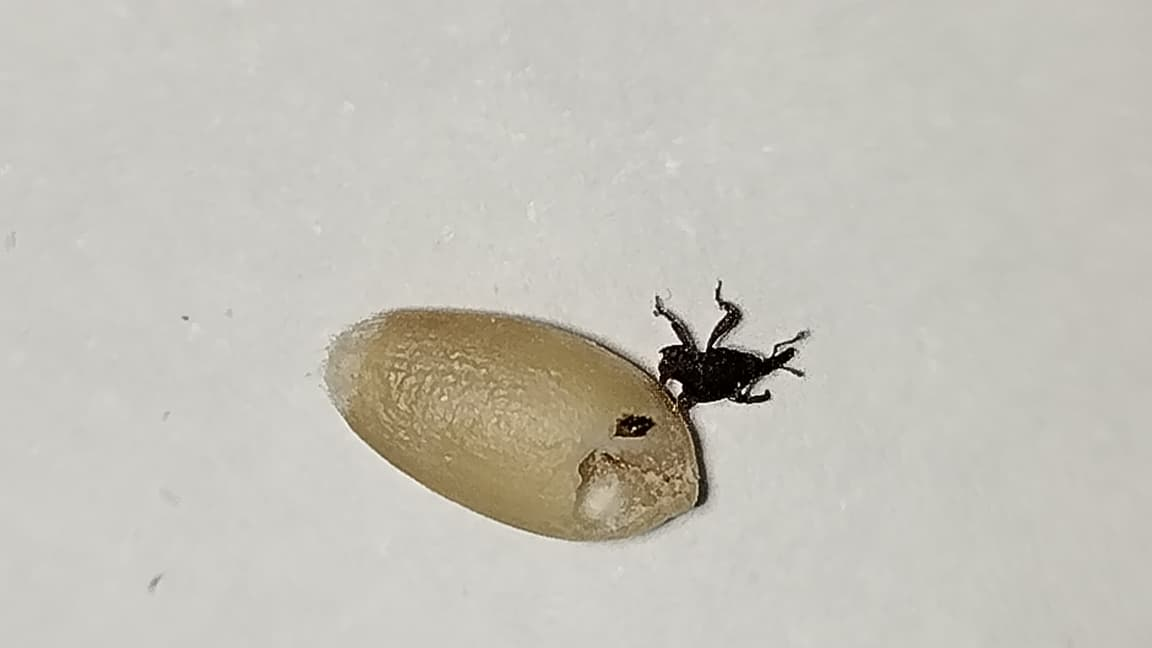damage: (324, 282, 809, 541)
insectdamage: (653, 280, 811, 443), (573, 443, 698, 536), (613, 413, 653, 438)
